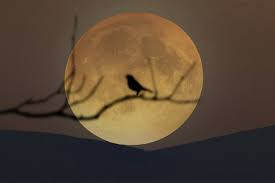moon: (63, 12, 204, 145)
